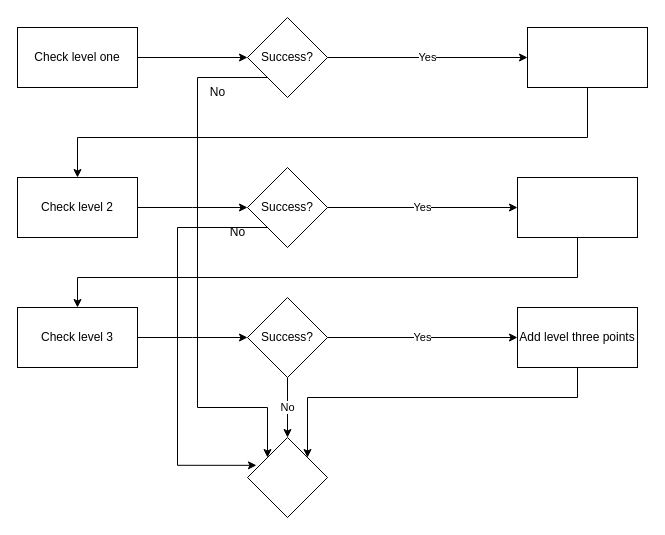
Image size: 665x535. Some labels were removed from this diagram. The centre of each missing label's shape, as x and y in pixels:
"Add level one points" goes at point 587,57.
"Add level two points" goes at point 577,207.
"Is bonus?" goes at point 287,477.
